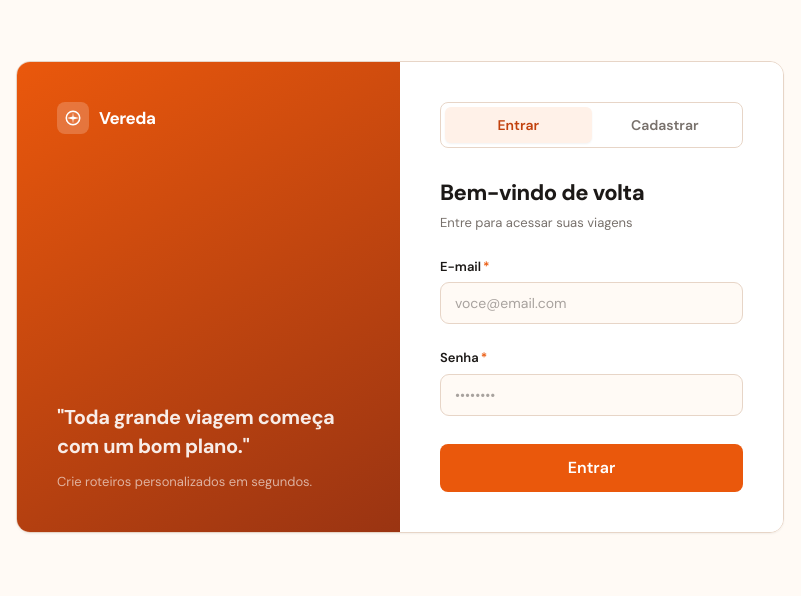
Scenario: Auth page › switches to register tab
Click the tab "Cadastrar" at (665, 125), box [592, 107, 738, 143]
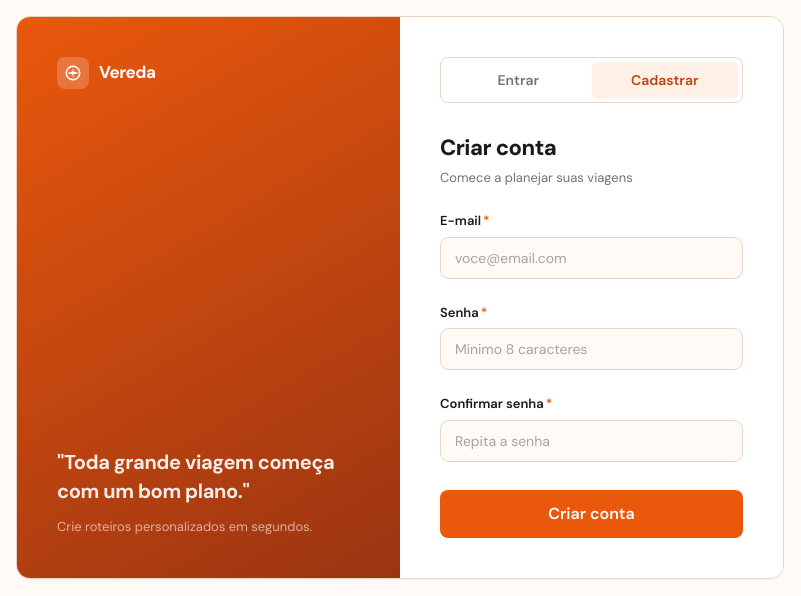
Check: the heading "Criar conta" is shown, box [440, 132, 556, 162]
